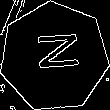N_W: (28, 35, 80, 79)
